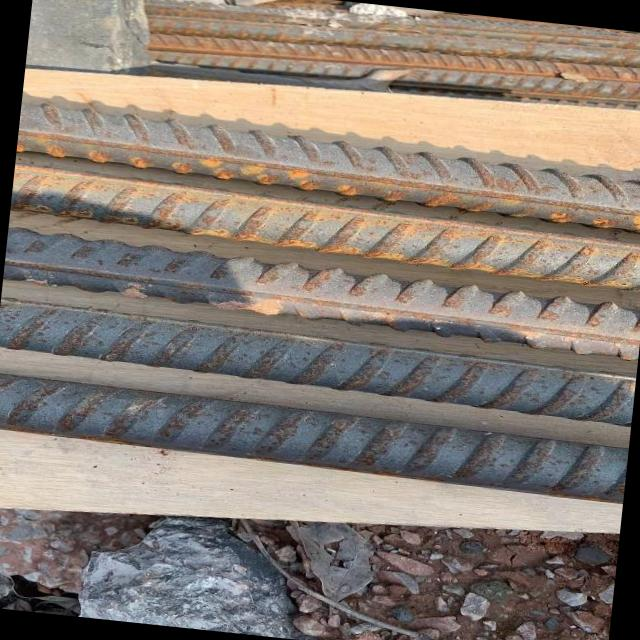ribbed bar: (0, 367, 629, 506), (2, 224, 640, 360), (15, 99, 640, 237), (0, 297, 637, 429), (9, 164, 640, 292), (146, 14, 640, 117), (149, 0, 640, 85), (142, 0, 640, 69)
